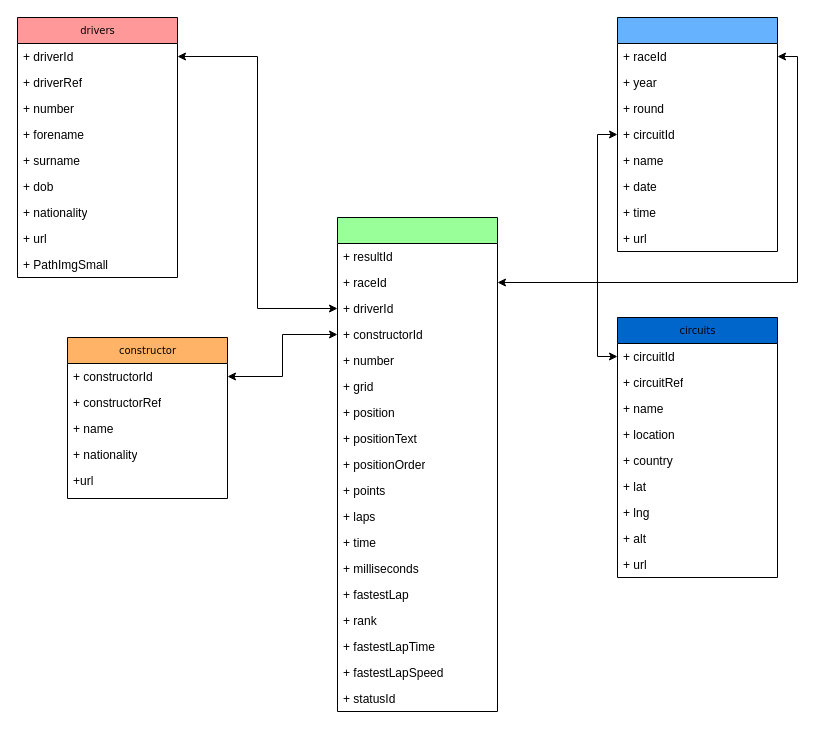
The diagram is 824 pixels wide and 732 high, and some of its shapes have lost their labels. The shapes that lost their labels are listed below. From the top down, each one's box as (x1, y1, x2, y2) in pixels, then its label:
(616, 16, 778, 252): races
(336, 216, 498, 712): results
